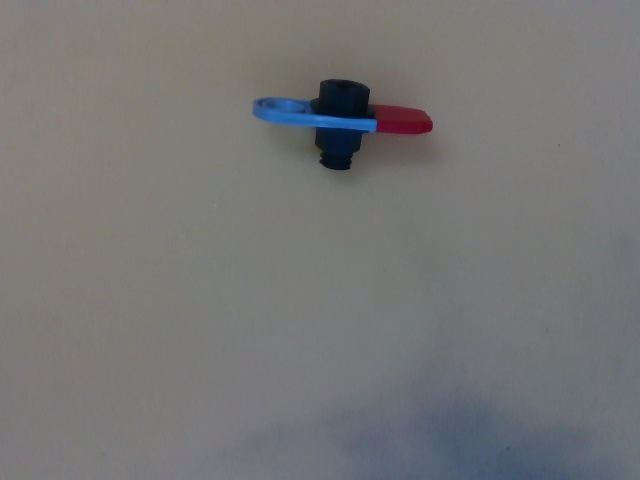part_1_good: (249, 75, 436, 175)
